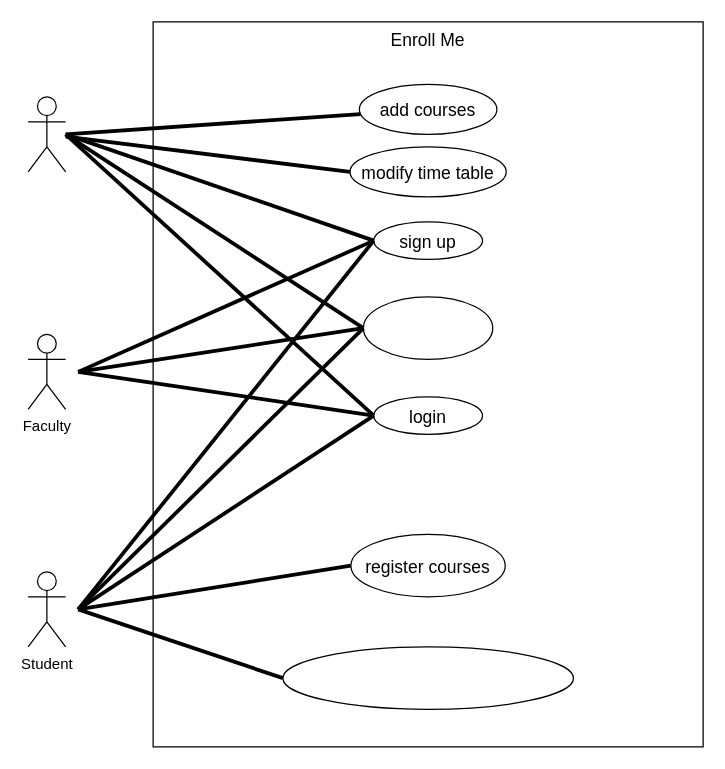
The diagram is 725 pixels wide and 769 high, and some of its shapes have lost their labels. The shapes that lost their labels are listed below. From the top down, each one's centre as x and y in pixels, then its label:
(46,134): Admin
(427,327): view time table
(428,677): make personalized time table
